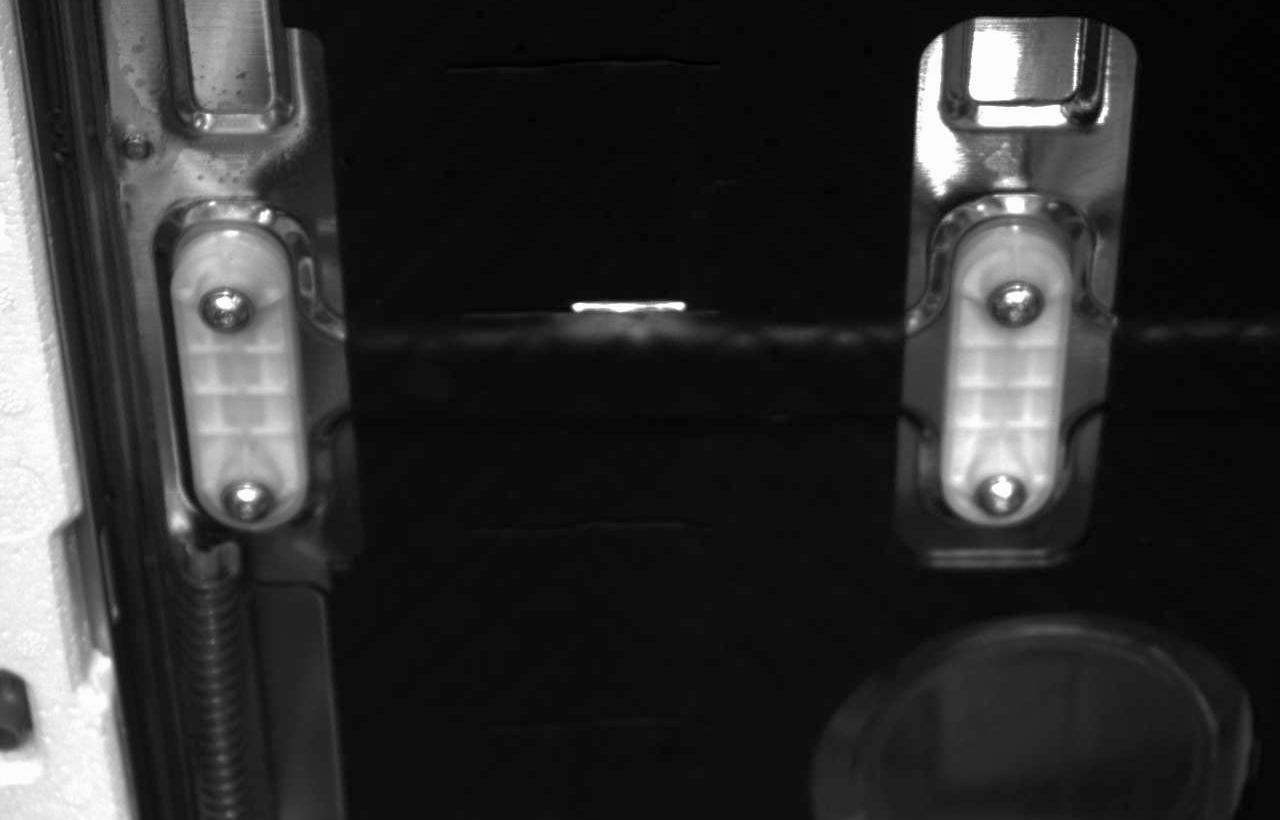vida-ok: (193, 278, 264, 345), (980, 269, 1047, 337), (971, 467, 1037, 535), (213, 472, 279, 531)
